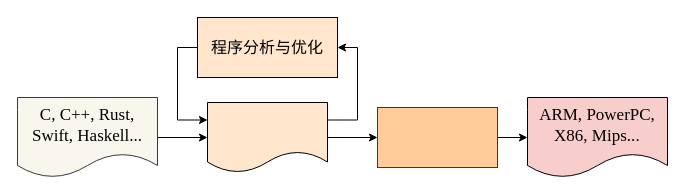
This 685x195 diagram has some shape labels left out. The centre of each missing label's shape, as x and y in pixels:
LLVM IR: the point at 267,137
代码生成, JIT: the point at 437,137
